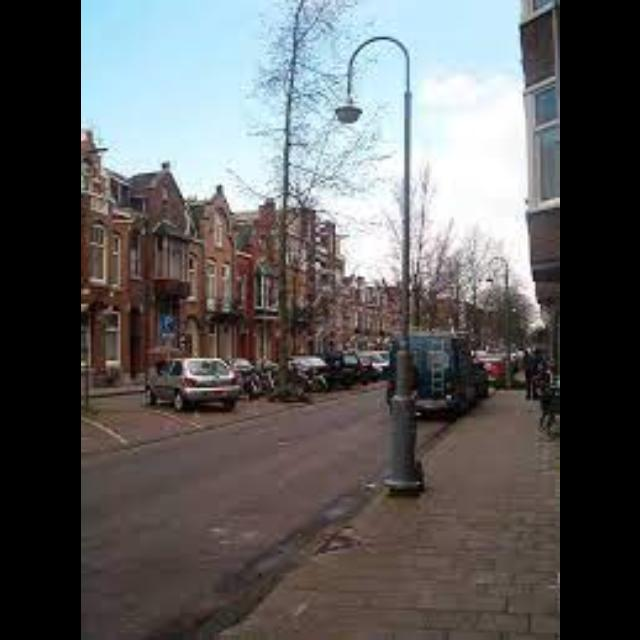Street-Lamp: (334, 34, 426, 502)
